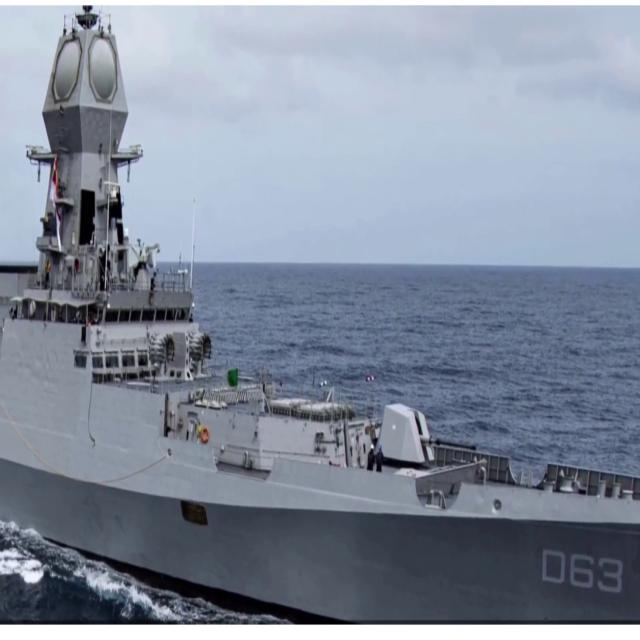OCR: (538, 544, 624, 599)
